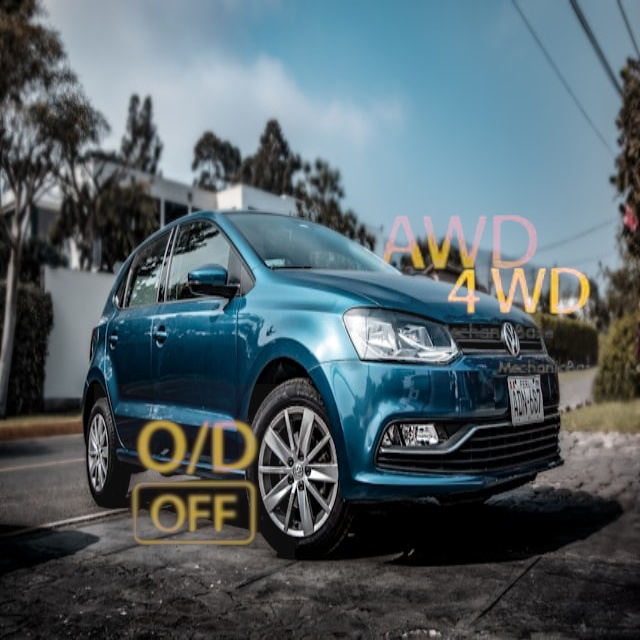symbol: (352, 139, 562, 349), (94, 384, 295, 585), (428, 203, 607, 382)
